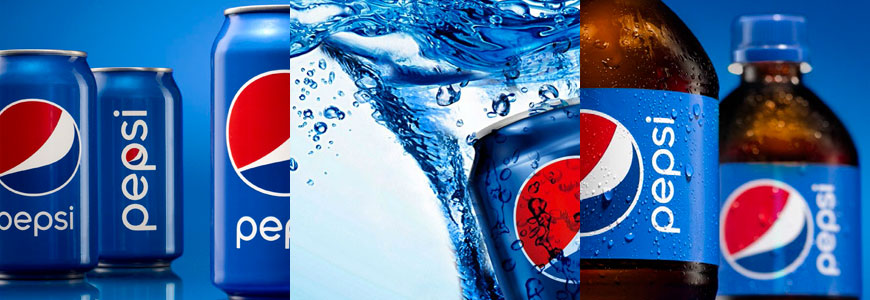pepsi: (718, 176, 815, 282), (718, 176, 815, 280), (725, 176, 815, 282), (510, 152, 579, 283), (510, 161, 579, 283), (578, 108, 643, 235), (226, 71, 289, 196), (0, 98, 80, 195), (125, 147, 142, 162)
